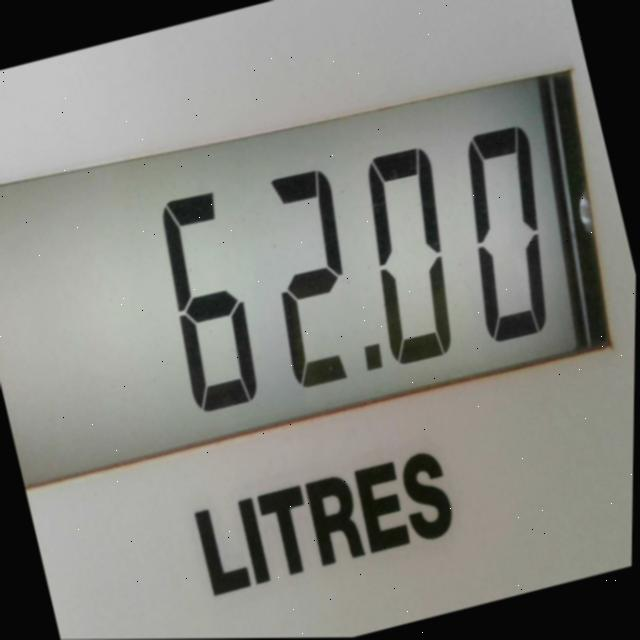.: (353, 332, 398, 394)
0: (342, 144, 488, 398), (438, 122, 574, 358)
2: (246, 168, 373, 394)
6: (147, 190, 270, 423)
